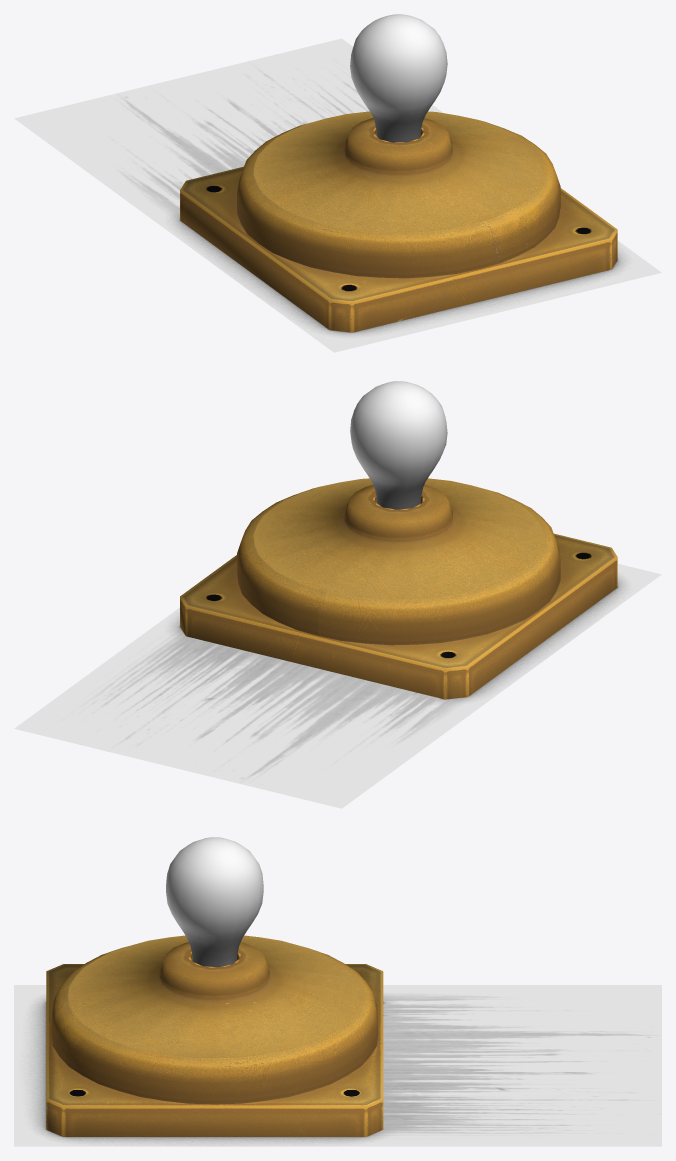
Rendered from Lamp_A.FBX.
3 renders of one model, top to bottom at view 1: azimuth 30°, elevation 25°; view 2: azimuth 150°, elevation 25°; view 3: azimuth 270°, elevation 25°, orthographic.
Parts seen in each view (by area): view 1: Lamp_A_LOD0, Decal; view 2: Lamp_A_LOD0, Decal; view 3: Lamp_A_LOD0, Decal.
Boxes of the visible parts, box(x1,y1,x2,y2) form: Lamp_A_LOD0: box(180, 14, 617, 332); Decal: box(14, 38, 661, 352); Lamp_A_LOD0: box(180, 381, 617, 699); Decal: box(14, 564, 661, 808); Lamp_A_LOD0: box(46, 837, 383, 1136); Decal: box(14, 985, 661, 1146).
Size of what is drawn, in the model's own units: 22.75 by 14.67 by 38.48.
Materials: 2 (2 with a texture image).
